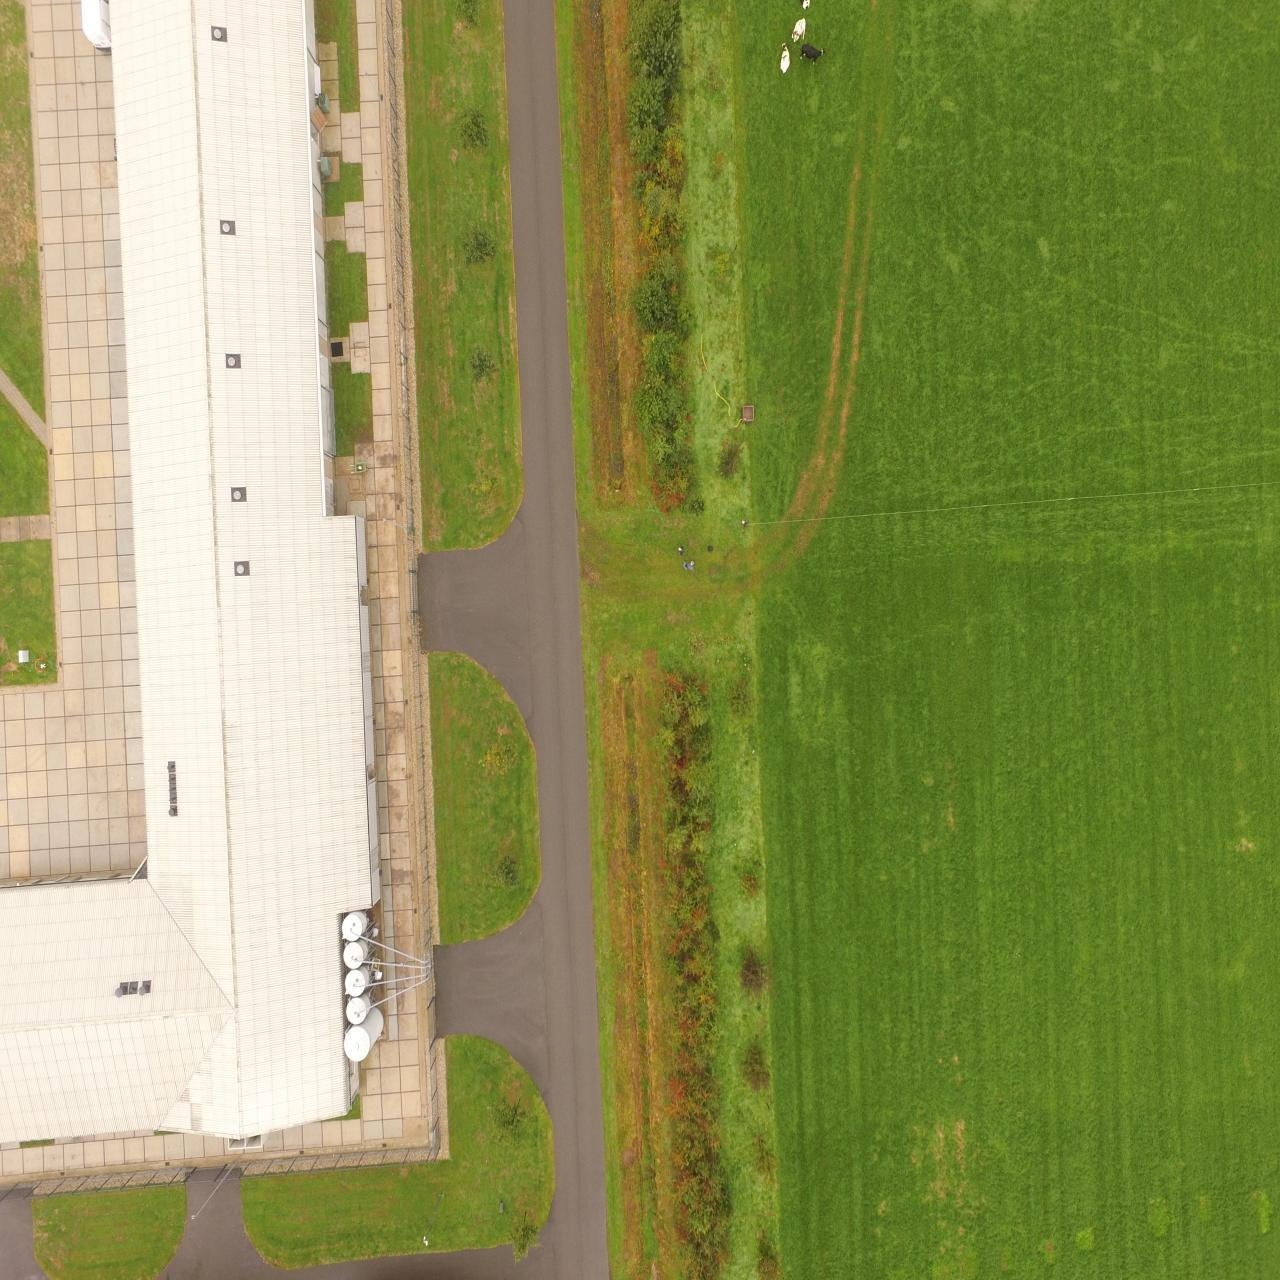cow: (799, 43, 826, 64), (791, 18, 805, 41), (779, 42, 789, 73), (802, 0, 809, 9)
